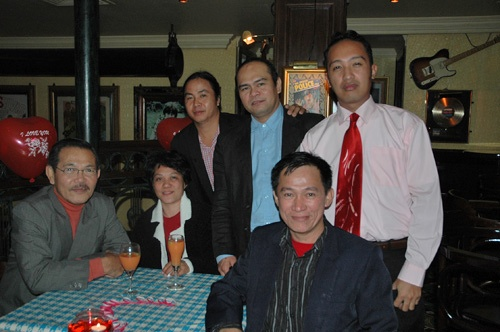head: (271, 152, 336, 236), (319, 28, 379, 108), (46, 139, 102, 205), (231, 53, 283, 121), (178, 67, 223, 125), (149, 155, 186, 205)
person: (307, 26, 441, 315), (201, 149, 400, 331), (0, 135, 133, 328), (162, 68, 250, 270), (236, 57, 323, 231), (129, 150, 211, 272)
